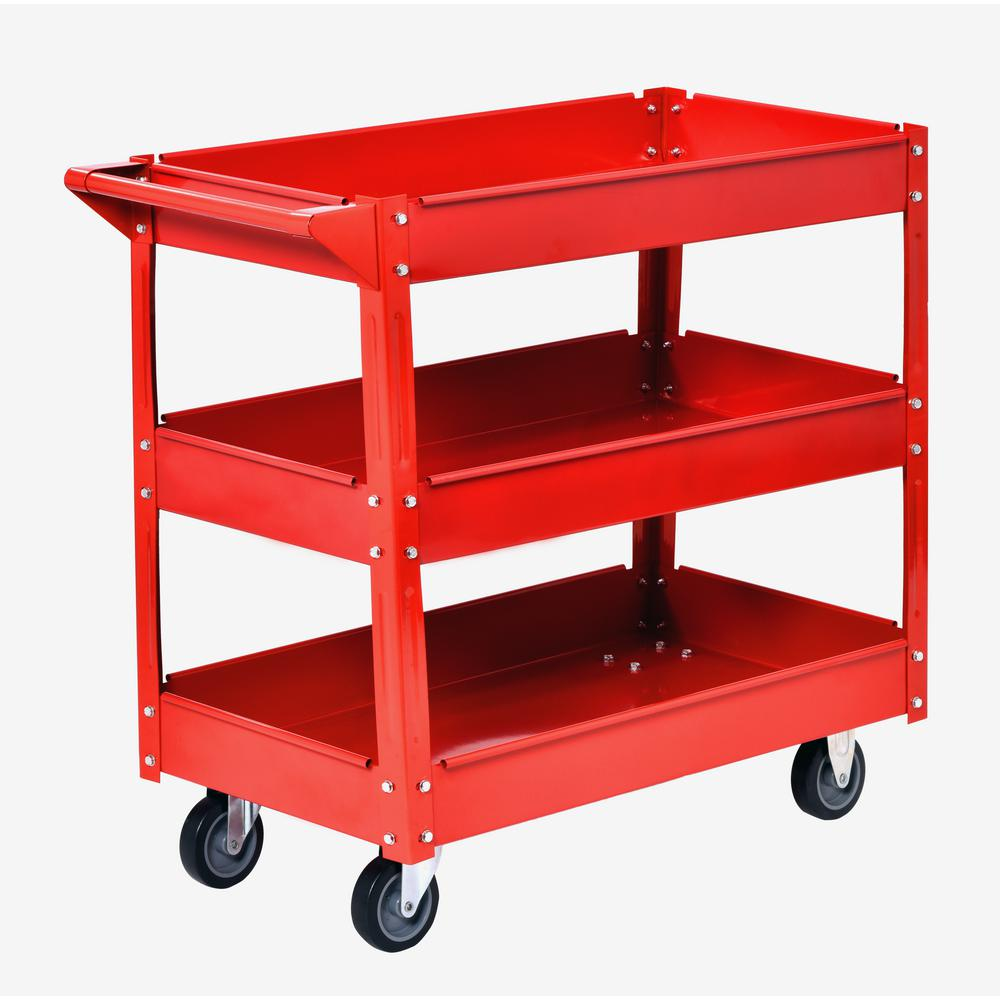Carts: (60, 84, 933, 950)
